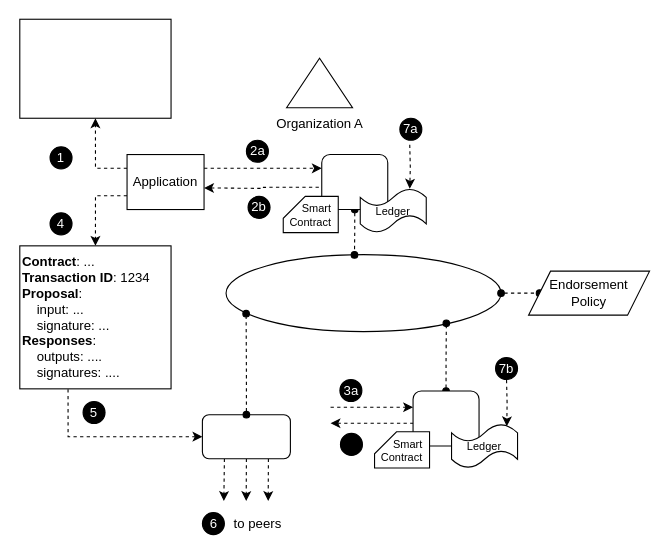
Some shapes in this 669 by 559 pixel diagram are drawn without their labels. The shapes that lost their labels are listed below. From the top down, each one's box as (x1, y1, x2, y2) in pixels, then its label:
(19, 18, 171, 118): Contract : ... Transaction ID : 1234 Proposal : input: { ... } signature: ...
(321, 153, 388, 210): Peer 1
(225, 254, 501, 332): Network Channel
(201, 414, 290, 459): Ordering Service
(412, 390, 479, 446): Peer 2
(339, 432, 362, 455): 3b
